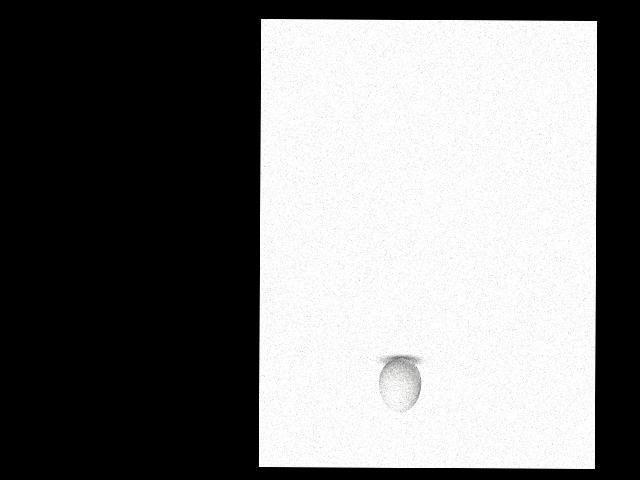egg: (378, 357, 420, 413)
